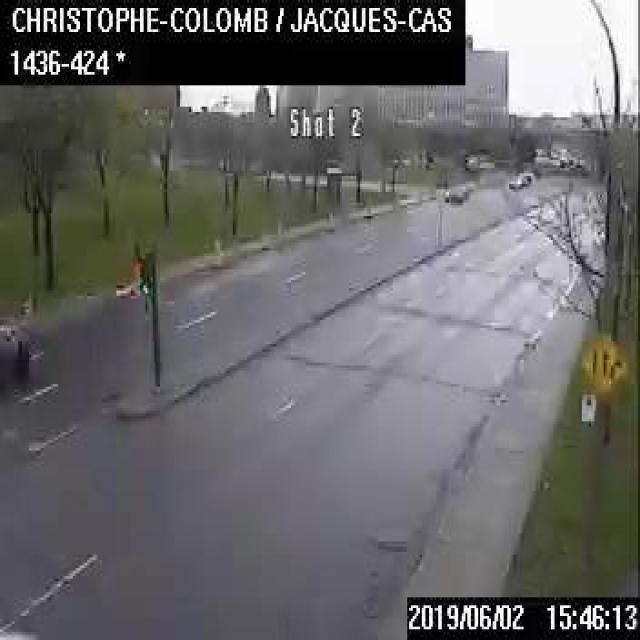construction: (21, 291, 31, 320), (214, 235, 222, 261), (274, 216, 282, 237), (366, 196, 370, 210)
vehicle: (0, 317, 33, 384), (507, 170, 533, 187), (443, 185, 462, 202), (452, 181, 468, 198)
